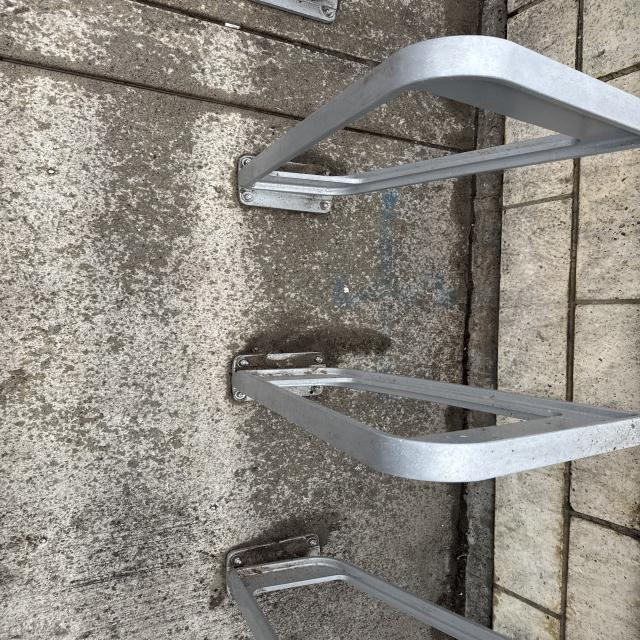Bicycle Rack: (237, 37, 640, 210), (234, 350, 634, 484), (222, 538, 517, 640)
